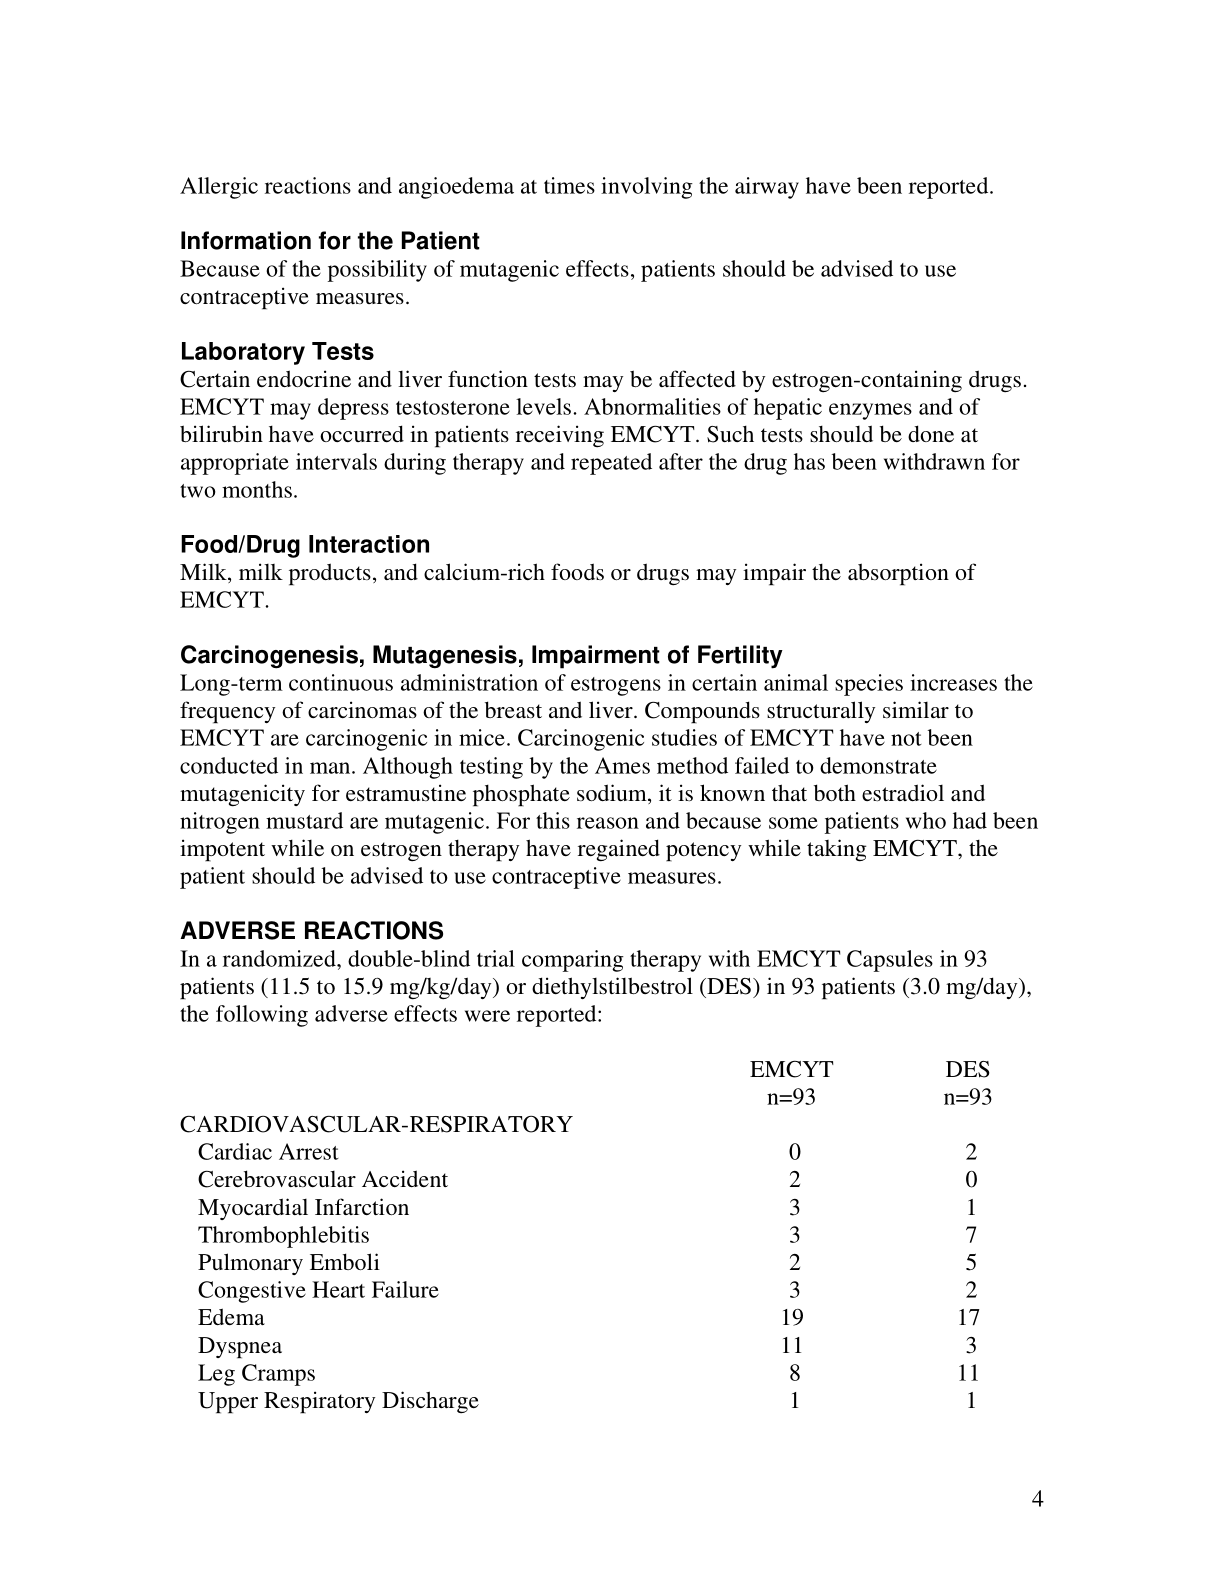nolines: (180, 1059, 993, 1413)
